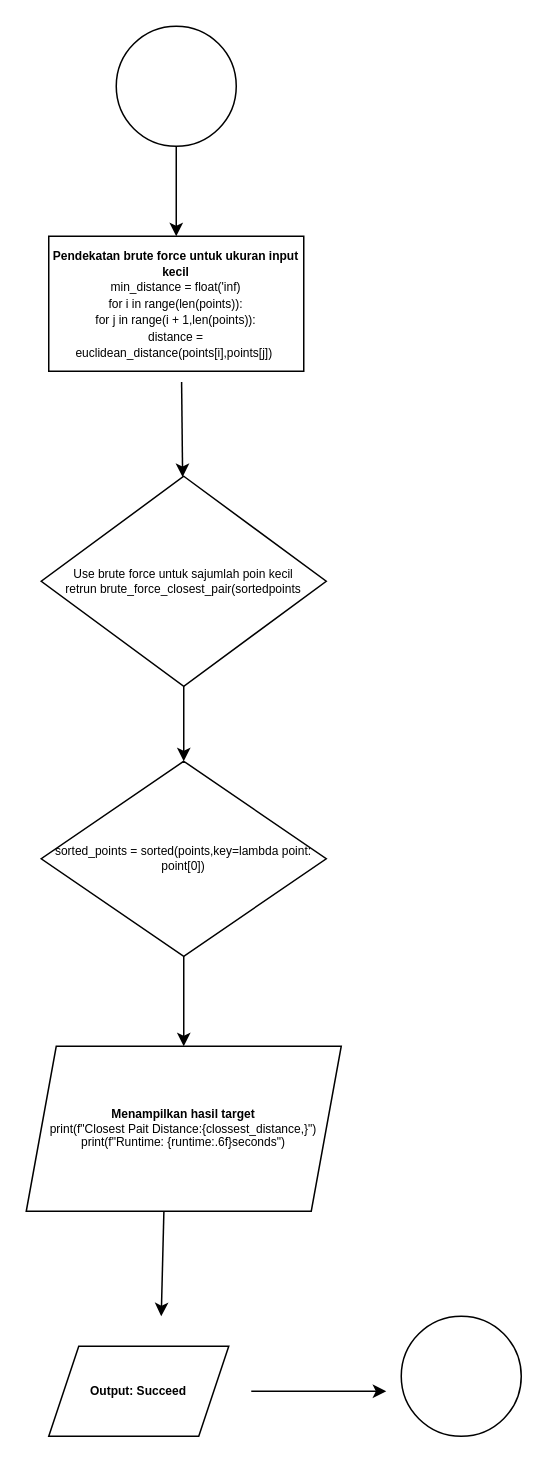
This 548x1463 diagram has some shape labels left out. The centre of each missing label's shape, as x and y in pixels:
End: pixel 460 1375
Start: pixel 175 85
